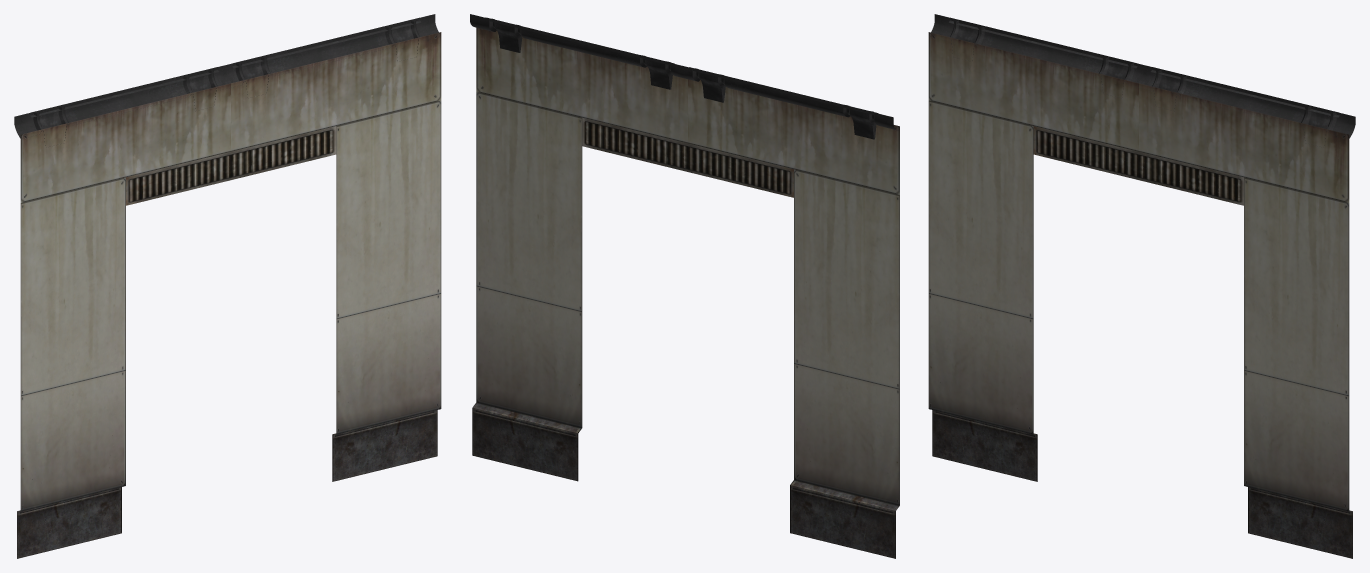
File: lab_doorway.dae
3 renders of one model, left to right at view 1: azimuth 30°, elevation 25°; view 2: azimuth 150°, elevation 25°; view 3: azimuth 330°, elevation 25°, orthographic.
Parts seen in each view (by area): view 1: lab_doorway; view 2: lab_doorway; view 3: lab_doorway.
Boxes of the visible parts, left/top/right/bottom form: lab_doorway: left=14, top=14, right=441, bottom=558; lab_doorway: left=470, top=14, right=899, bottom=558; lab_doorway: left=928, top=14, right=1355, bottom=558.
Bounding box in the file's own units: 4 × 4 × 0.1056.
